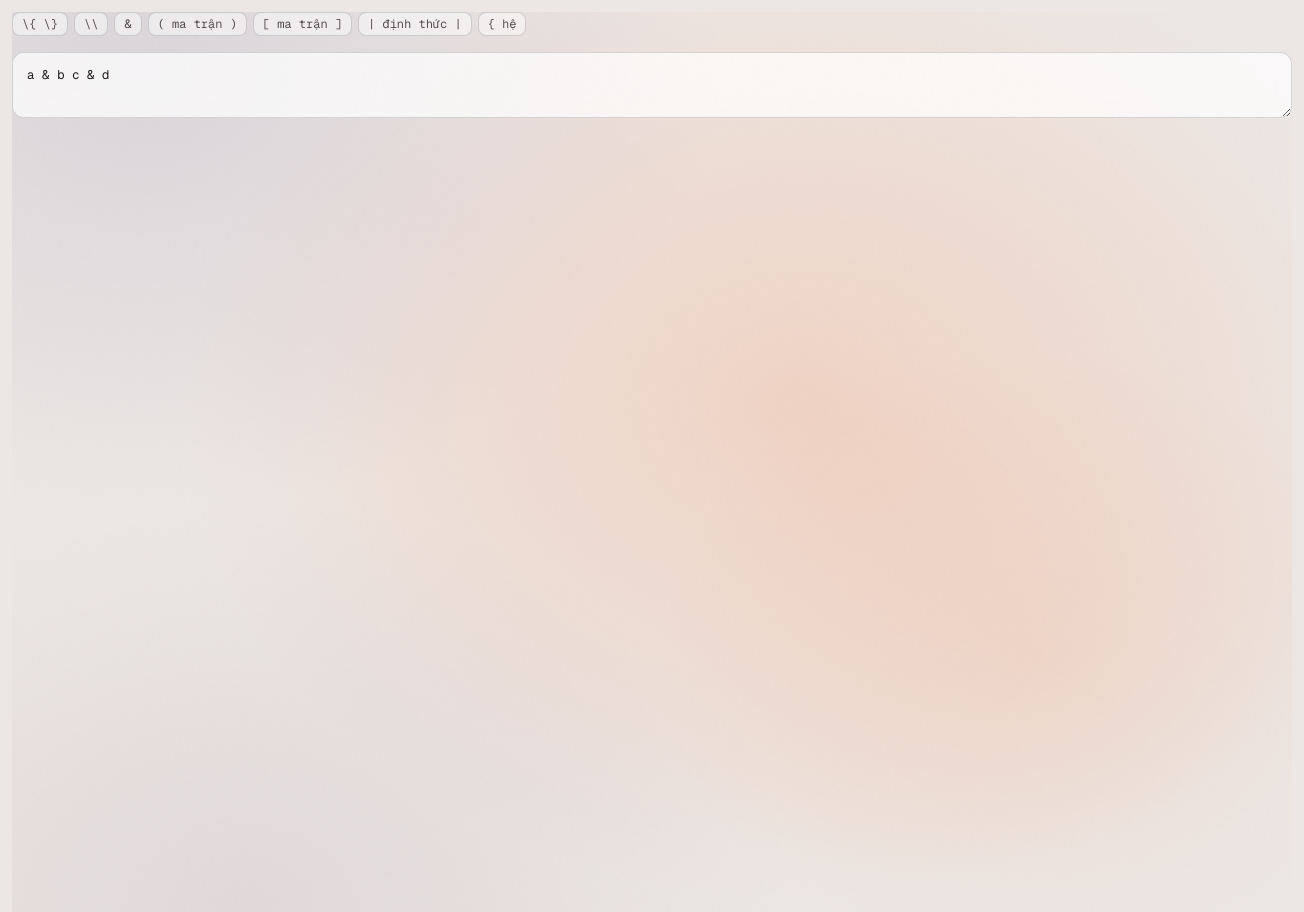
Test: inserts a row break the model can't write itself
What coordinates should you click on to do the following:
click the button named "Xuống dòng"
I would click on:
 (91, 24)
Its box is [74,12,108,36].
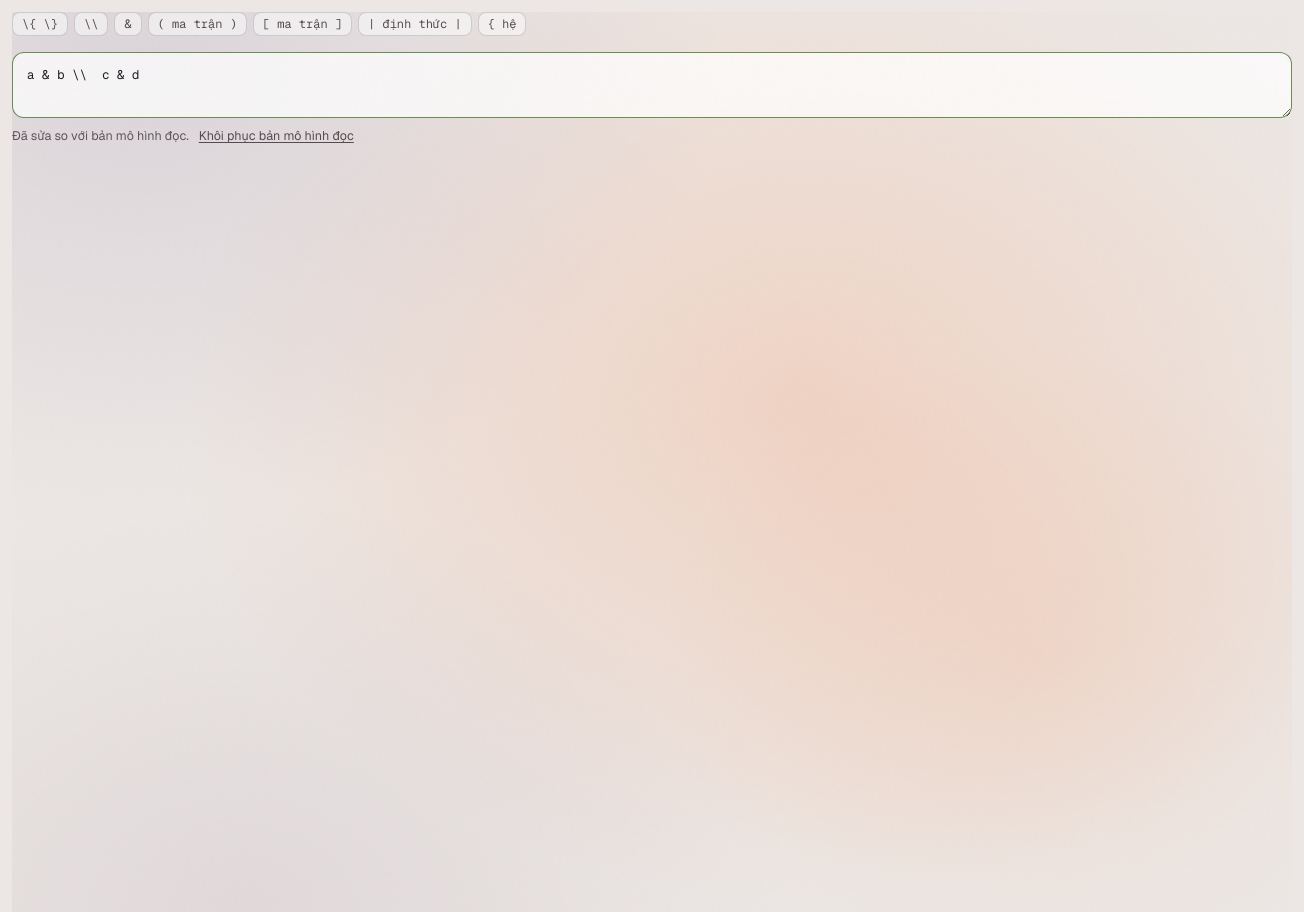
Expected: the text box named "LaTeX (sửa được)" holds "a & b \\\\  c & d", [12,52,1292,118]
